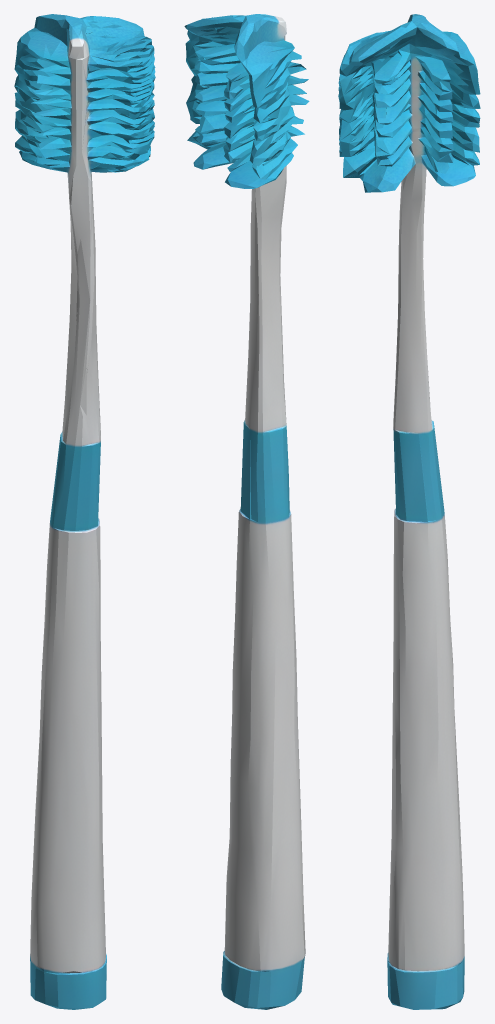
File: toothbrush.glb
3 views of the same model, side by side, from view 1: azimuth 90°, elevation 25°; view 2: azimuth 210°, elevation 25°; view 3: azimuth 270°, elevation 25° (orthographic).
Visible parts, largest first — view 1: model; view 2: model; view 3: model.
Part boxes in pixels (box(x1,y1,x2,y2)): model: box(14, 14, 155, 1009); model: box(184, 14, 309, 1009); model: box(338, 14, 480, 1009).
Size of the model in its own units: 0.1667 by 1.9 by 0.2499.
Materials: 1 (1 with a texture image).
